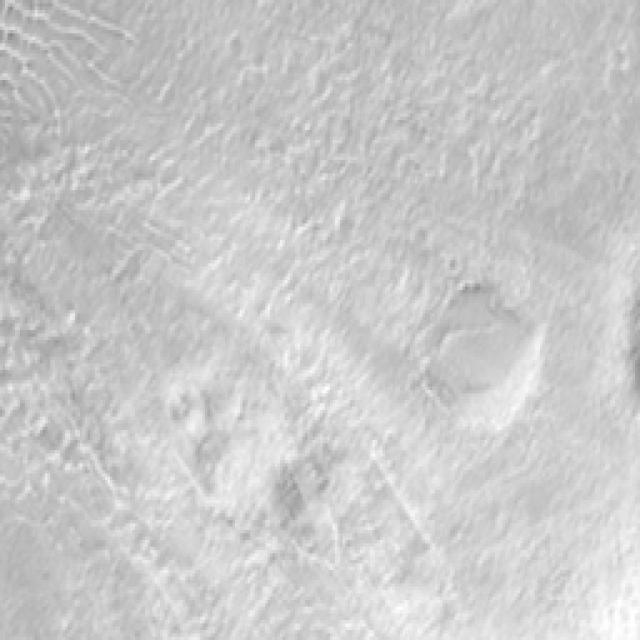Crater: (0, 0, 640, 640), (403, 260, 555, 453), (615, 226, 640, 486)
